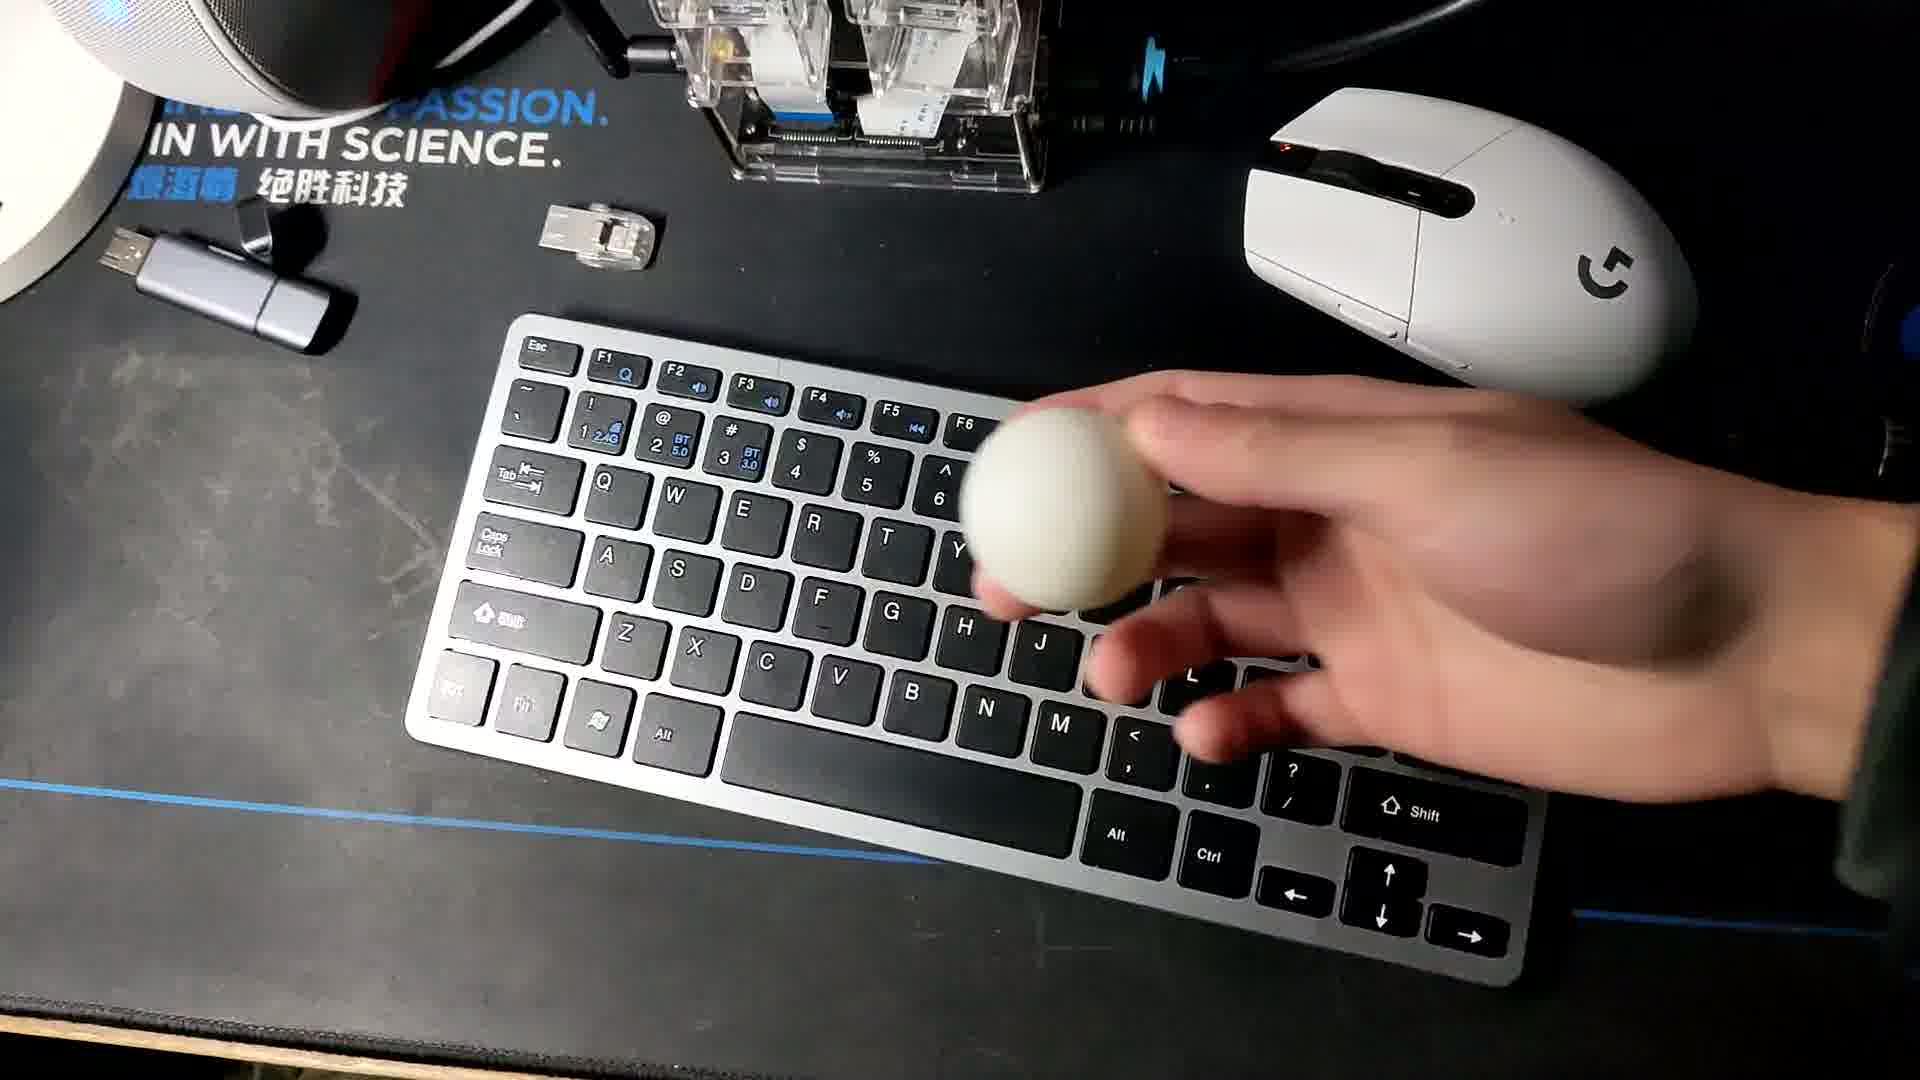Ball: (957, 411, 1160, 608)
